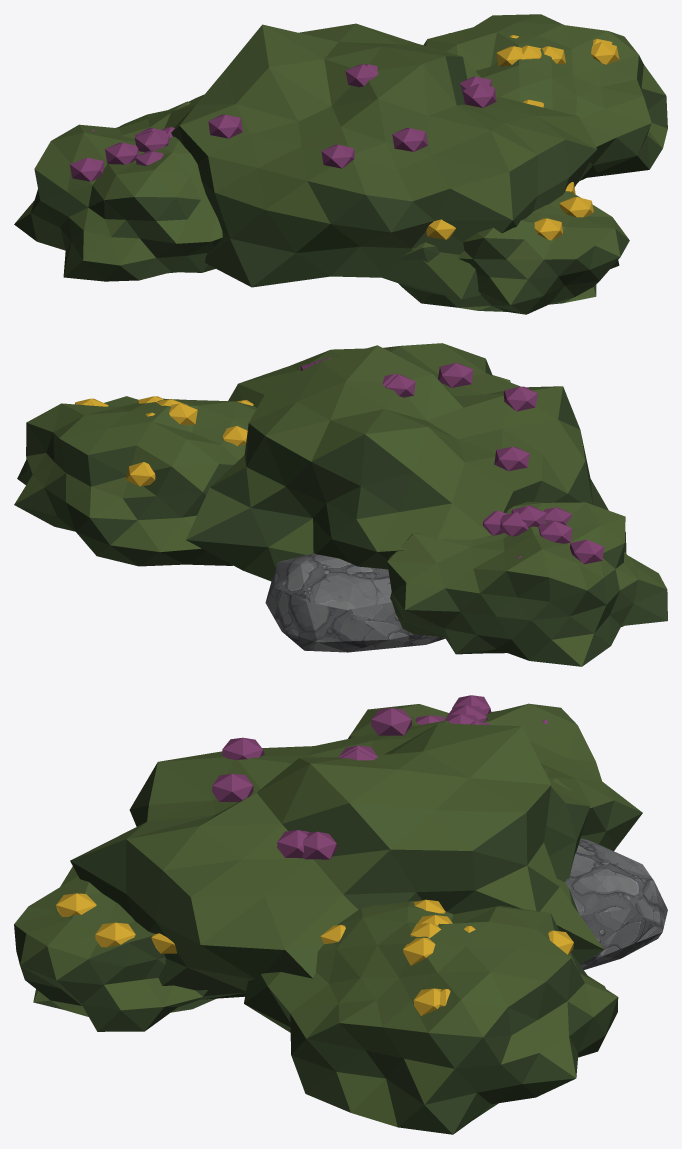
File: highland_brush_cluster.glb
3 views of the same model, one above another, from view 1: azimuth 30°, elevation 25°; view 2: azimuth 150°, elevation 25°; view 3: azimuth 270°, elevation 25° (orthographic). The views are drawn at different scales.
Parts seen in each view (by area): view 1: HighlandBrush; view 2: HighlandBrush; view 3: HighlandBrush.
Part boxes in pixels (left/top/right/bottom): HighlandBrush: left=14, top=14, right=667, bottom=314; HighlandBrush: left=14, top=343, right=667, bottom=666; HighlandBrush: left=14, top=695, right=667, bottom=1134.
Size of the model in its own units: 2.53 by 0.6974 by 1.9.
Materials: 5 (1 with a texture image).
